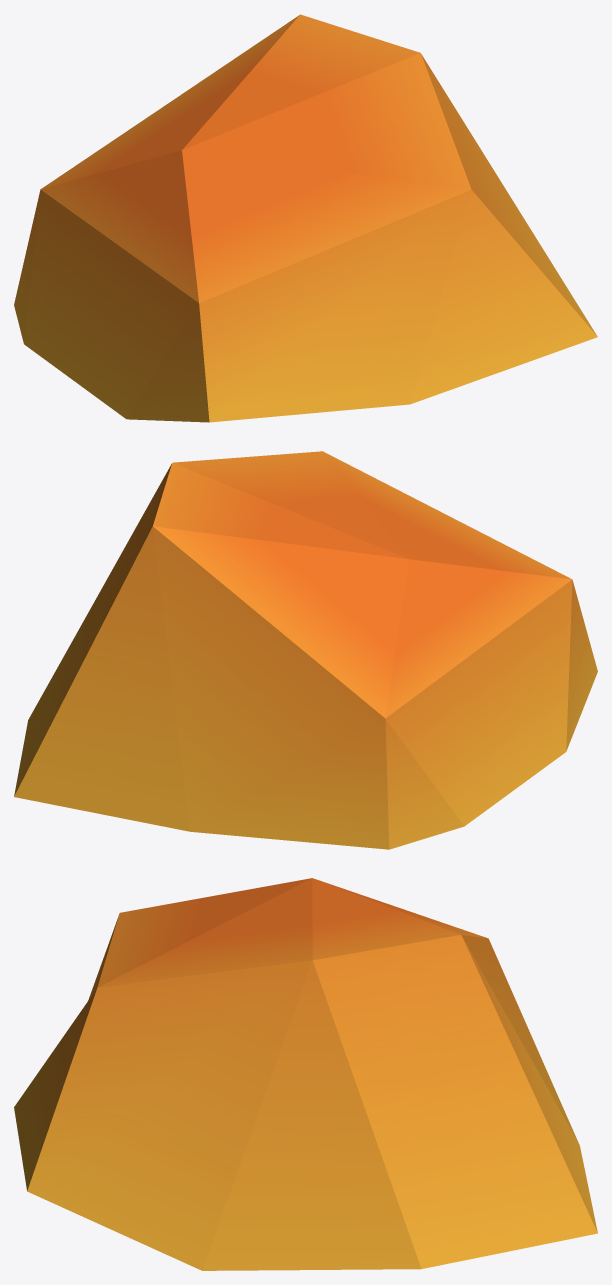
Rendered from SM_Rock_A_03.fbx.
3 renders of one model, top to bottom at view 1: azimuth 30°, elevation 25°; view 2: azimuth 150°, elevation 25°; view 3: azimuth 270°, elevation 25°, orthographic. The views are drawn at different scales.
Visible parts, largest first — view 1: Rock_Type1_Varient3; view 2: Rock_Type1_Varient3; view 3: Rock_Type1_Varient3.
Boxes of the visible parts, x1,y1,x2,y2 form: Rock_Type1_Varient3: (14,14,597,422); Rock_Type1_Varient3: (14,451,597,849); Rock_Type1_Varient3: (14,878,597,1270).
Size of the model in its own units: 141 by 130 by 69.71.
